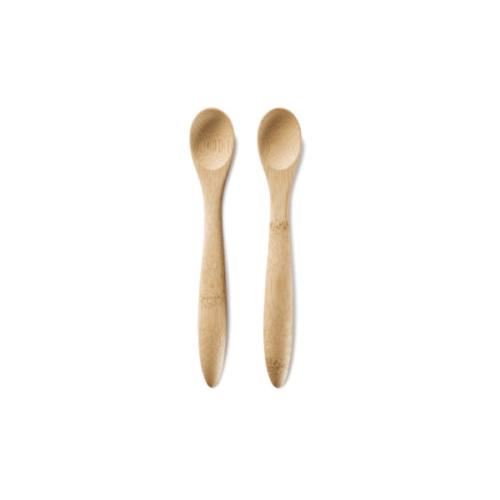Spoon: (189, 108, 237, 389), (257, 107, 304, 389)
